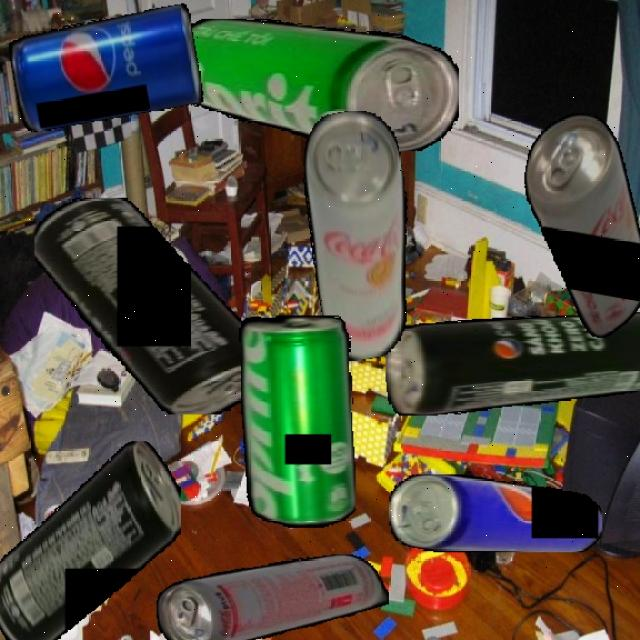debris: (34, 196, 274, 414), (167, 19, 459, 151), (289, 104, 433, 364), (0, 440, 180, 640), (500, 107, 640, 343), (384, 312, 640, 416), (7, 3, 205, 134), (238, 316, 356, 528), (155, 553, 389, 640), (389, 473, 602, 552)
